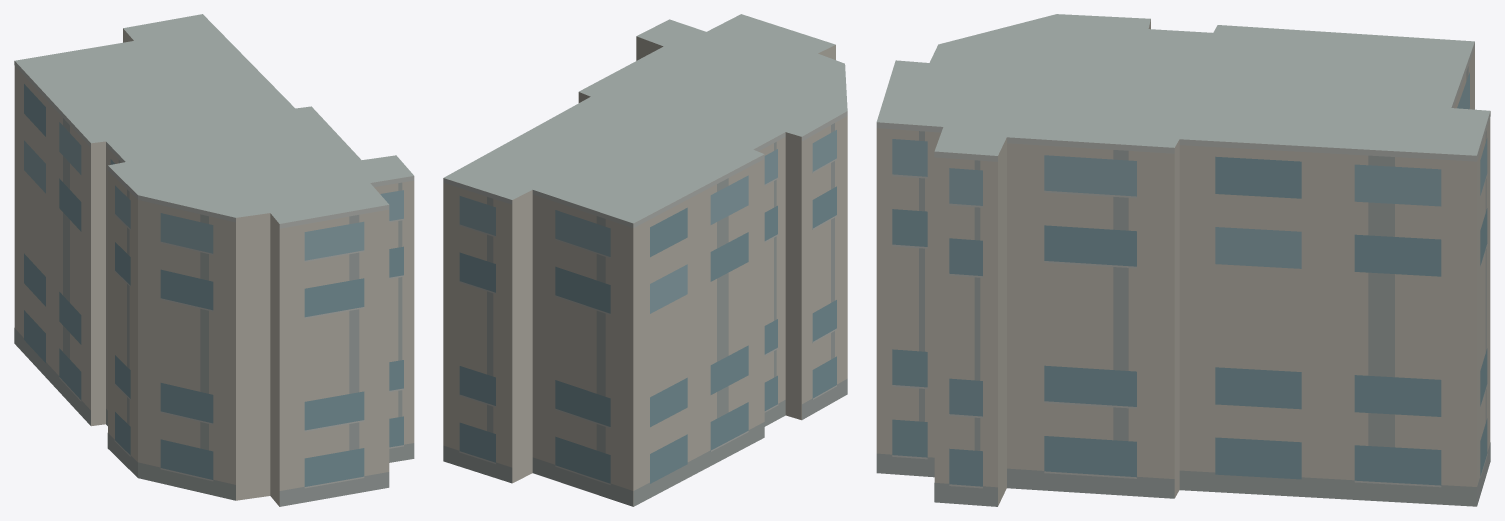
The model's file is survey-upis-32572167.glb.
3 views of the same model, side by side, from view 1: azimuth 30°, elevation 25°; view 2: azimuth 150°, elevation 25°; view 3: azimuth 270°, elevation 25° (orthographic). The views are drawn at different scales.
Parts seen in each view (by area): view 1: survey-upis-32572167.tmp; view 2: survey-upis-32572167.tmp; view 3: survey-upis-32572167.tmp.
Boxes of the visible parts, x1,y1,x2,y2 form: survey-upis-32572167.tmp: (14,14,414,506); survey-upis-32572167.tmp: (443,14,847,506); survey-upis-32572167.tmp: (876,14,1490,506).
Size of the model in its own units: 12.68 by 14.6 by 23.16.
